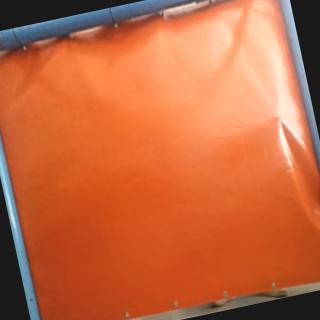Hit-hRxx: (268, 108, 288, 125)
